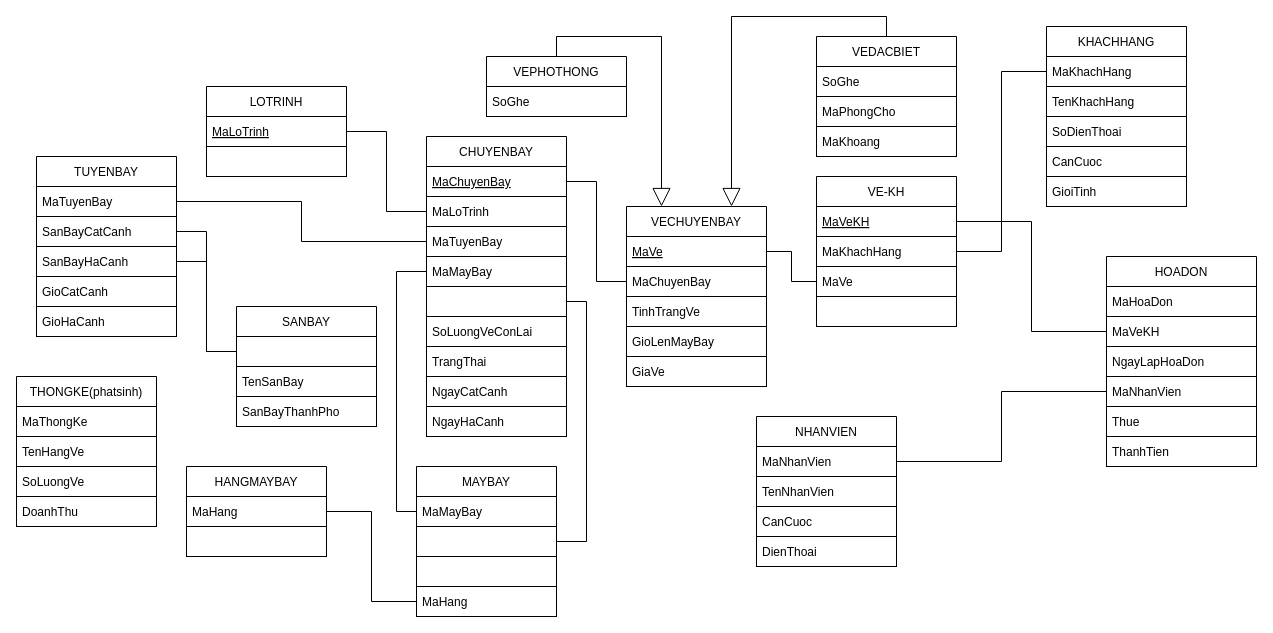
This 1273x633 diagram has some shape labels left out. The centre of each missing label's shape, as x and y in pixels:
"MaSanBay" goes at (306,351).
"MoTa" goes at (486,571).
"NgayMuaVe" goes at (886,311).
"SoLuongGhe" goes at (486,541).
"TenHang" goes at (256,541).
"TenLoTrinh" goes at (276,161).
"TongSoLuongVe" goes at (496,301).
